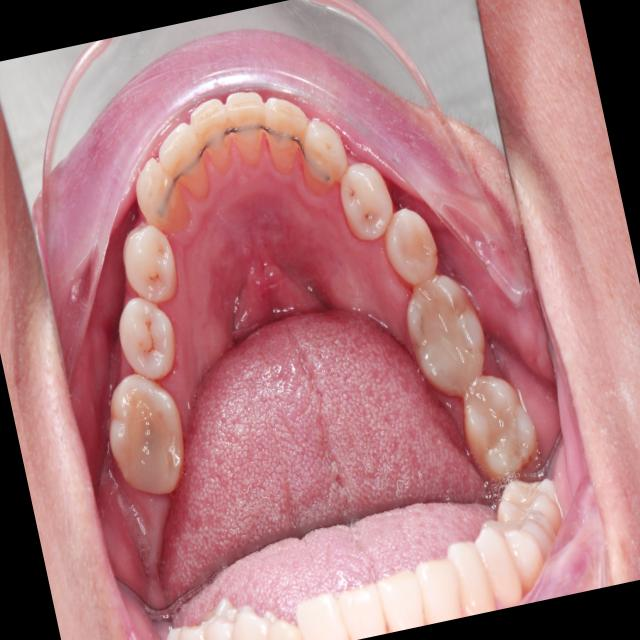tooth: (389, 250, 508, 418), (92, 359, 205, 517), (442, 355, 549, 492), (326, 136, 405, 258), (369, 193, 455, 303), (106, 281, 187, 394), (123, 146, 204, 258), (145, 112, 227, 214), (286, 98, 361, 208), (216, 74, 285, 192), (176, 83, 250, 193), (114, 219, 194, 319), (256, 86, 326, 191)
